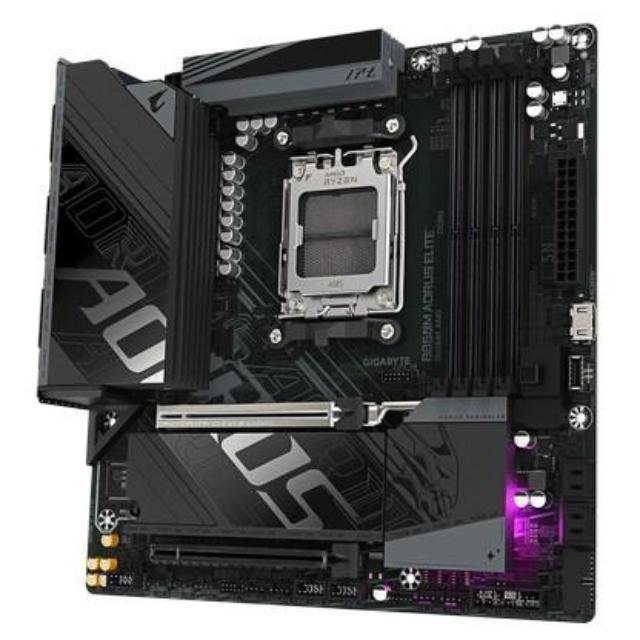Mainboard: (37, 21, 615, 634)
